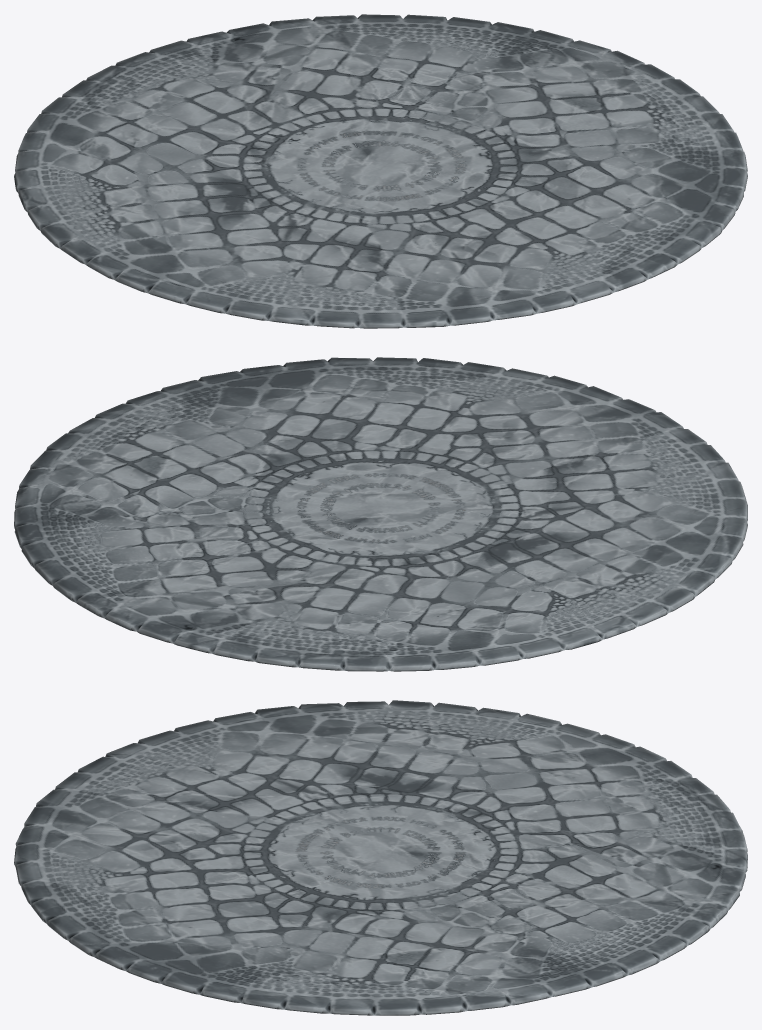
Rendered from ScenarioCenter.fbx.
3 renders of one model, top to bottom at view 1: azimuth 30°, elevation 25°; view 2: azimuth 150°, elevation 25°; view 3: azimuth 270°, elevation 25°, orthographic.
Parts seen in each view (by area): view 1: CircleofPowerLow; view 2: CircleofPowerLow; view 3: CircleofPowerLow.
Boxes of the visible parts, x1,y1,x2,y2 form: CircleofPowerLow: [14, 14, 747, 328]; CircleofPowerLow: [14, 357, 747, 671]; CircleofPowerLow: [14, 700, 747, 1015].
Size of the model in its own units: 199 by 2.63 by 198.
